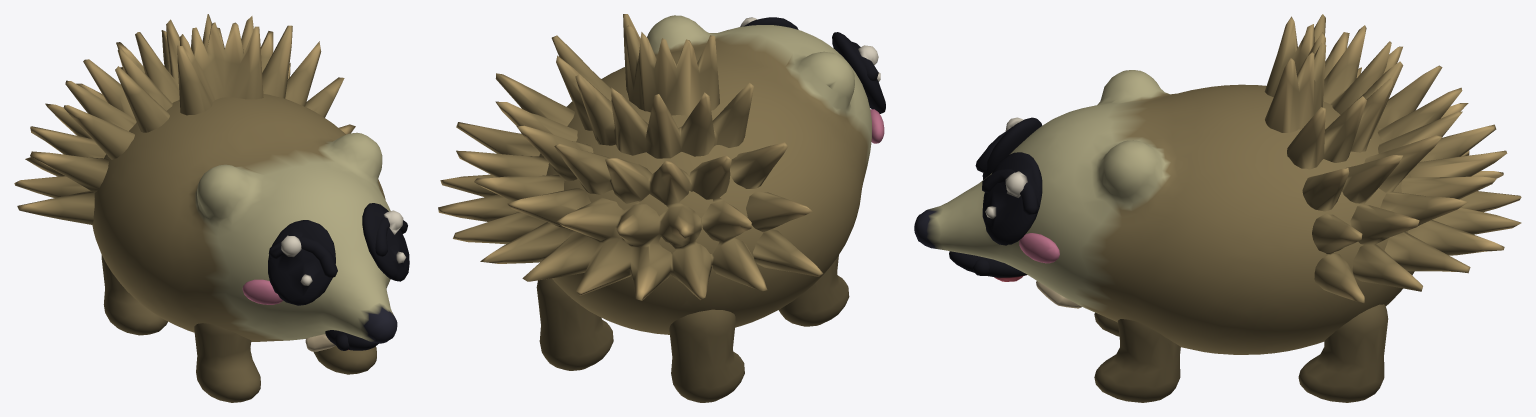
The model's file is gnistpindsvin.glb.
The picture shows the model from 3 angles, left to right: view 1: azimuth 30°, elevation 25°; view 2: azimuth 150°, elevation 25°; view 3: azimuth 270°, elevation 25°; orthographic projection. The views are drawn at different scales.
Visible parts, largest first — view 1: body_mesh, spikes, leg_0, eye_L, eye_R, leg_3, leg_1, lid_L, cheek_L, lid_R, mouth_open, chest_mark; view 2: spikes, body_mesh, leg_3, leg_2, leg_0, eye_L, eye_R; view 3: body_mesh, spikes, leg_2, leg_1, eye_R, eye_L, mouth_open, cheek_R, lid_R.
Part boxes in pixels (x1,y1,x2,y2): body_mesh: (92,94,397,343); spikes: (14,14,355,224); leg_0: (194,323,260,402); eye_L: (268,220,335,305); eye_R: (362,203,409,281); leg_3: (101,255,167,335); leg_1: (313,346,376,374); lid_L: (268,236,337,277); cheek_L: (242,279,282,304); lid_R: (375,217,407,256); mouth_open: (325,330,378,350); chest_mark: (305,334,335,351); spikes: (438,14,823,300); body_mesh: (539,15,871,334); leg_3: (669,309,744,402); leg_2: (536,278,613,370); leg_0: (779,255,849,326); eye_L: (832,32,885,113); eye_R: (740,17,798,29); body_mesh: (914,70,1414,354); spikes: (1264,14,1521,303); leg_2: (1298,304,1388,402); leg_1: (1094,319,1180,402); eye_R: (982,152,1042,245); eye_L: (982,117,1042,179); mouth_open: (949,251,1027,281); cheek_R: (1019,233,1059,263); lid_R: (982,169,1038,214).
Bounding box in the file's own units: 0.3635 × 0.3072 × 0.5114.
